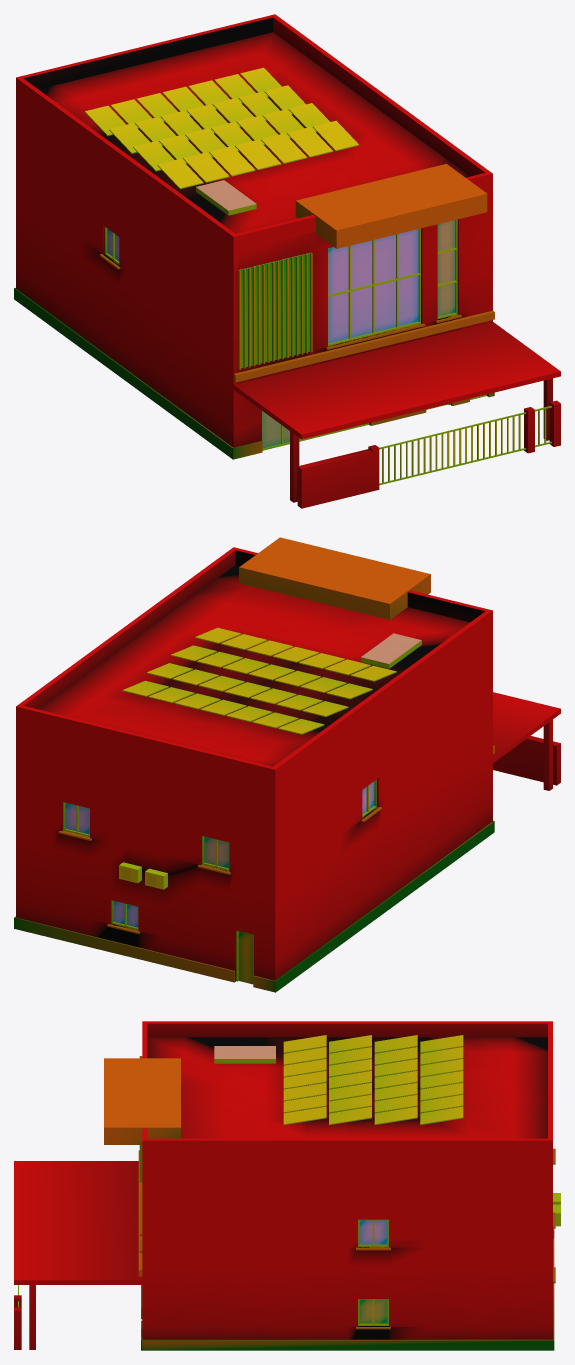
Rendered from superlink.glb.
3 views of the same model, one above another, from view 1: azimuth 30°, elevation 25°; view 2: azimuth 150°, elevation 25°; view 3: azimuth 270°, elevation 25° (orthographic). The views are drawn at different scales.
Visible parts, largest first — view 1: superlink__modern__LOD0; view 2: superlink__modern__LOD0; view 3: superlink__modern__LOD0.
Part boxes in pixels (bbox=[...]): superlink__modern__LOD0: bbox=[14, 14, 560, 508]; superlink__modern__LOD0: bbox=[14, 537, 560, 992]; superlink__modern__LOD0: bbox=[14, 1021, 560, 1350].
Size of what is drawn, in the model's own units: 11.2 by 9.05 by 21.31.
